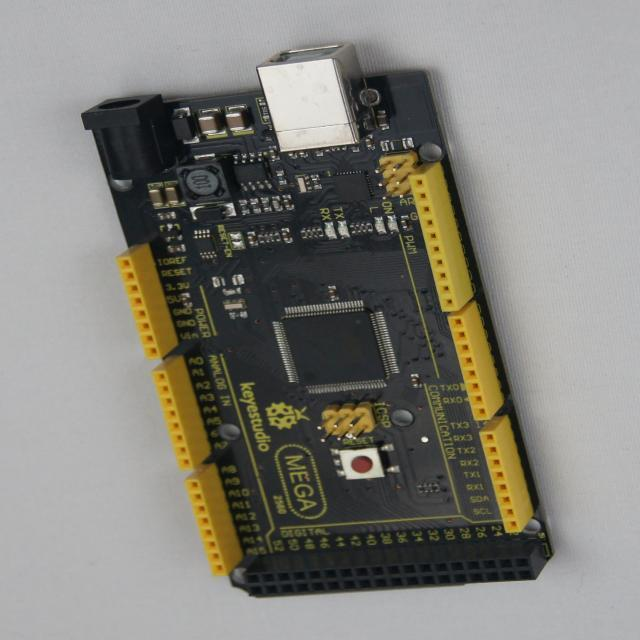Arduino Mega 2560 -Yellow-: (83, 44, 553, 595)
